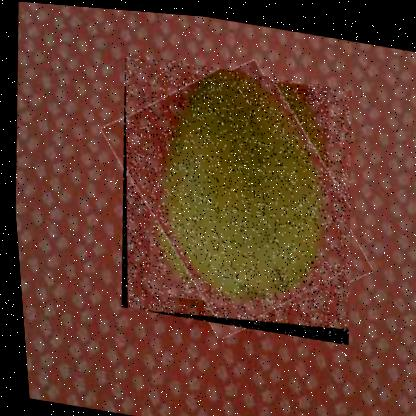mango: (101, 48, 366, 341)
